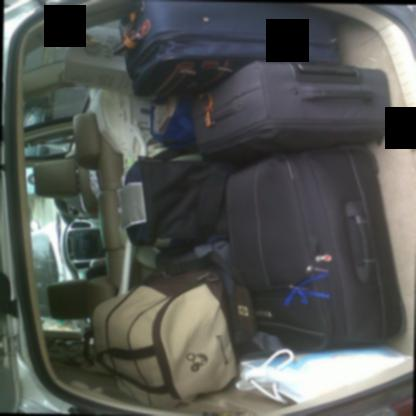backpack: (122, 147, 237, 248), (147, 90, 194, 148)
suitcase: (224, 146, 404, 353), (113, 0, 342, 94), (186, 59, 389, 158)
